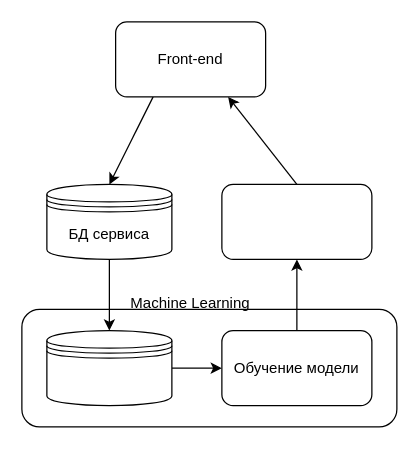
The diagram is 419 pixels wide and 449 high, and some of its shapes have lost their labels. Here are the shapes that lost their labels. From the top down, the box of each, then its label:
(221, 183, 372, 259): Модель рекомендаций
(46, 329, 172, 406): Обучающие данные
